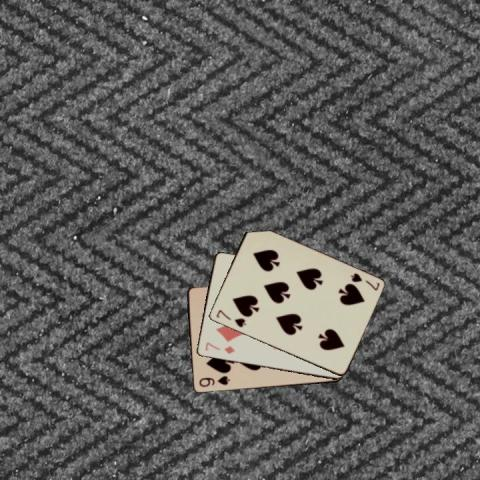7d: (202, 340, 236, 356)
7s: (213, 306, 247, 329), (347, 270, 381, 292)
9s: (196, 373, 231, 388)
